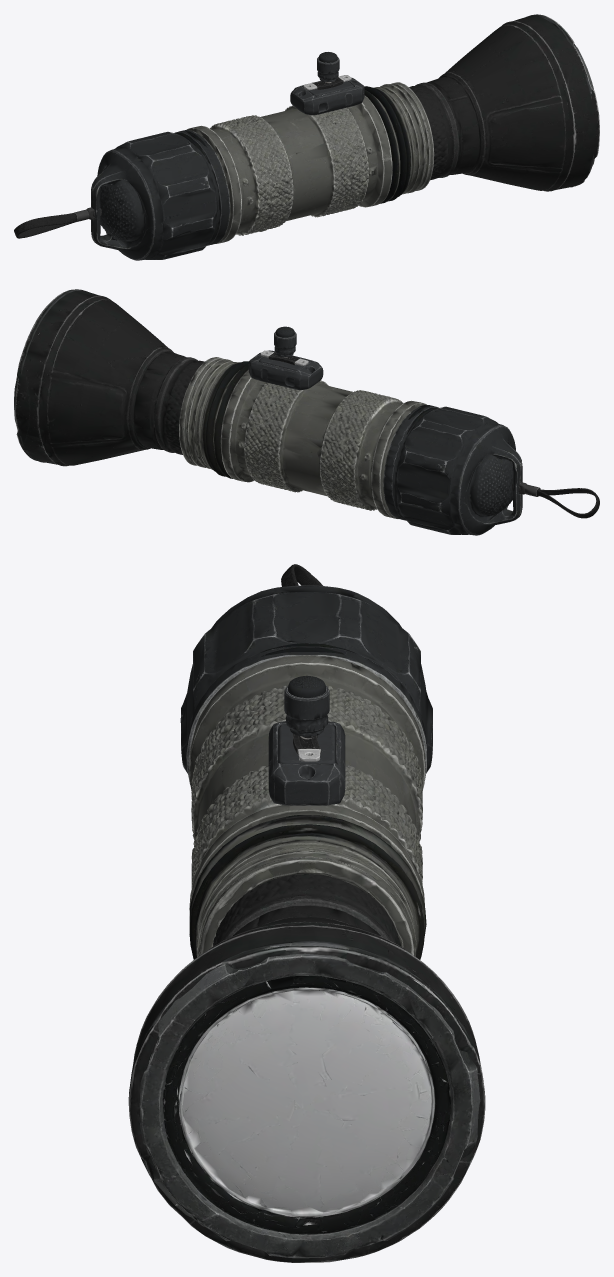
The model's file is linterna.glb.
3 renders of one model, top to bottom at view 1: azimuth 30°, elevation 25°; view 2: azimuth 150°, elevation 25°; view 3: azimuth 270°, elevation 25°, orthographic. The views are drawn at different scales.
Visible parts, largest first — view 1: cabeza, carcasa, tapa, base_interruptor, correa, boton, lente, contacto; view 2: cabeza, carcasa, tapa, base_interruptor, correa, boton, lente, contacto; view 3: lente, carcasa, cabeza, tapa, base_interruptor, boton.
Part boxes in pixels (left/top/right/bottom): cabeza: left=409, top=14, right=599, bottom=191; carcasa: left=176, top=82, right=434, bottom=243; tapa: left=91, top=130, right=229, bottom=260; base_interruptor: left=290, top=77, right=364, bottom=115; correa: left=14, top=207, right=101, bottom=238; boton: left=317, top=52, right=339, bottom=82; lente: left=526, top=15, right=594, bottom=187; contacto: left=303, top=75, right=351, bottom=90; cabeza: left=15, top=289, right=204, bottom=466; carcasa: left=179, top=357, right=437, bottom=518; tapa: left=383, top=404, right=522, bottom=535; base_interruptor: left=248, top=350, right=323, bottom=390; correa: left=511, top=482, right=599, bottom=518; boton: left=274, top=326, right=296, bottom=356; lente: left=14, top=289, right=83, bottom=462; contacto: left=260, top=350, right=308, bottom=365; lente: left=139, top=941, right=480, bottom=1258; carcasa: left=189, top=643, right=426, bottom=959; cabeza: left=128, top=874, right=485, bottom=1262; tapa: left=180, top=585, right=432, bottom=785; base_interruptor: left=268, top=721, right=345, bottom=805; boton: left=284, top=675, right=329, bottom=736.
Size of the model in its own units: 3.17 by 1.02 by 0.9015.
12 materials, 12 textured.
